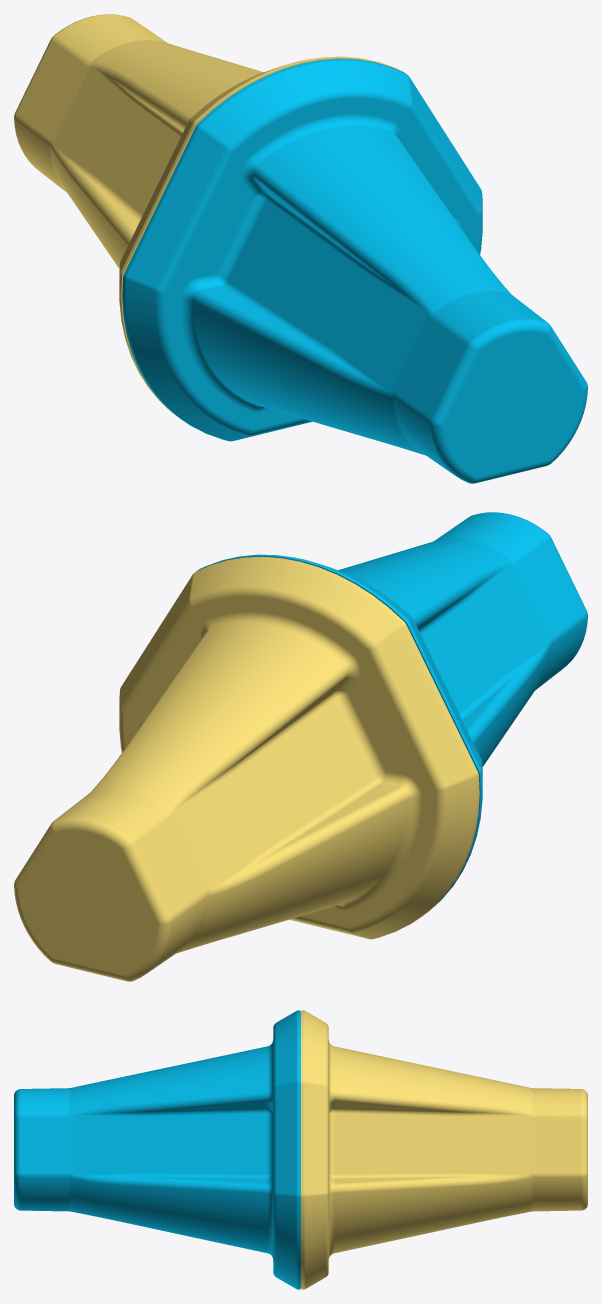
The model's file is pin-blue-yellow.glb.
3 views of the same model, one above another, from view 1: azimuth 30°, elevation 25°; view 2: azimuth 150°, elevation 25°; view 3: azimuth 270°, elevation 25° (orthographic). The views are drawn at different scales.
Visible parts, largest first — view 1: Pin Half (×2); view 2: Pin Half (×2); view 3: Pin Half (×2).
Part boxes in pixels (bbox=[...]): Pin Half (×2): bbox=[14, 14, 587, 483]; Pin Half (×2): bbox=[14, 512, 587, 981]; Pin Half (×2): bbox=[14, 1010, 587, 1289].
Size of the model in its own units: 0.0803 by 0.0768 by 0.165.
